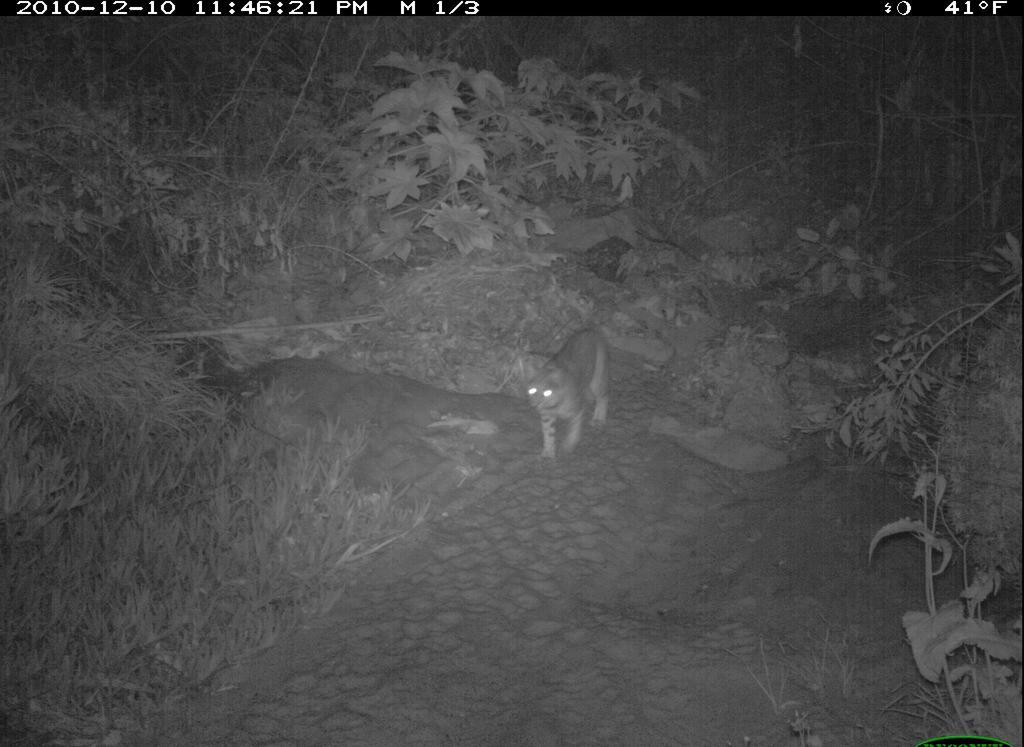bobcat: (520, 321, 623, 468)
